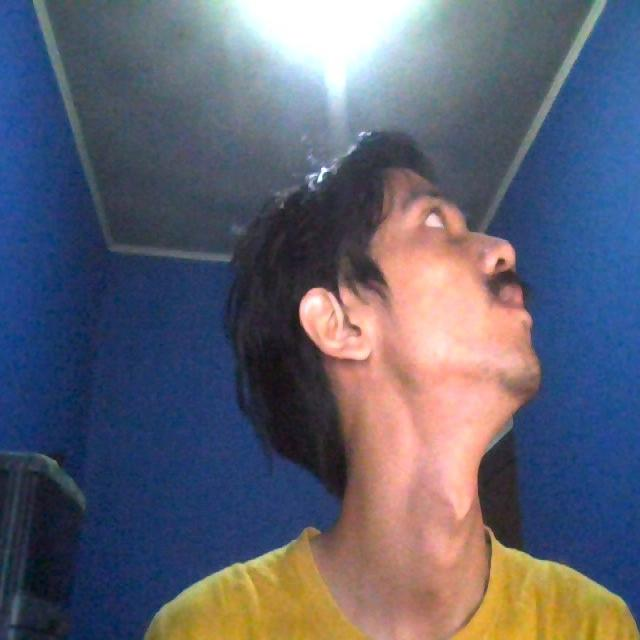melihat kekiri: (191, 137, 551, 475)
